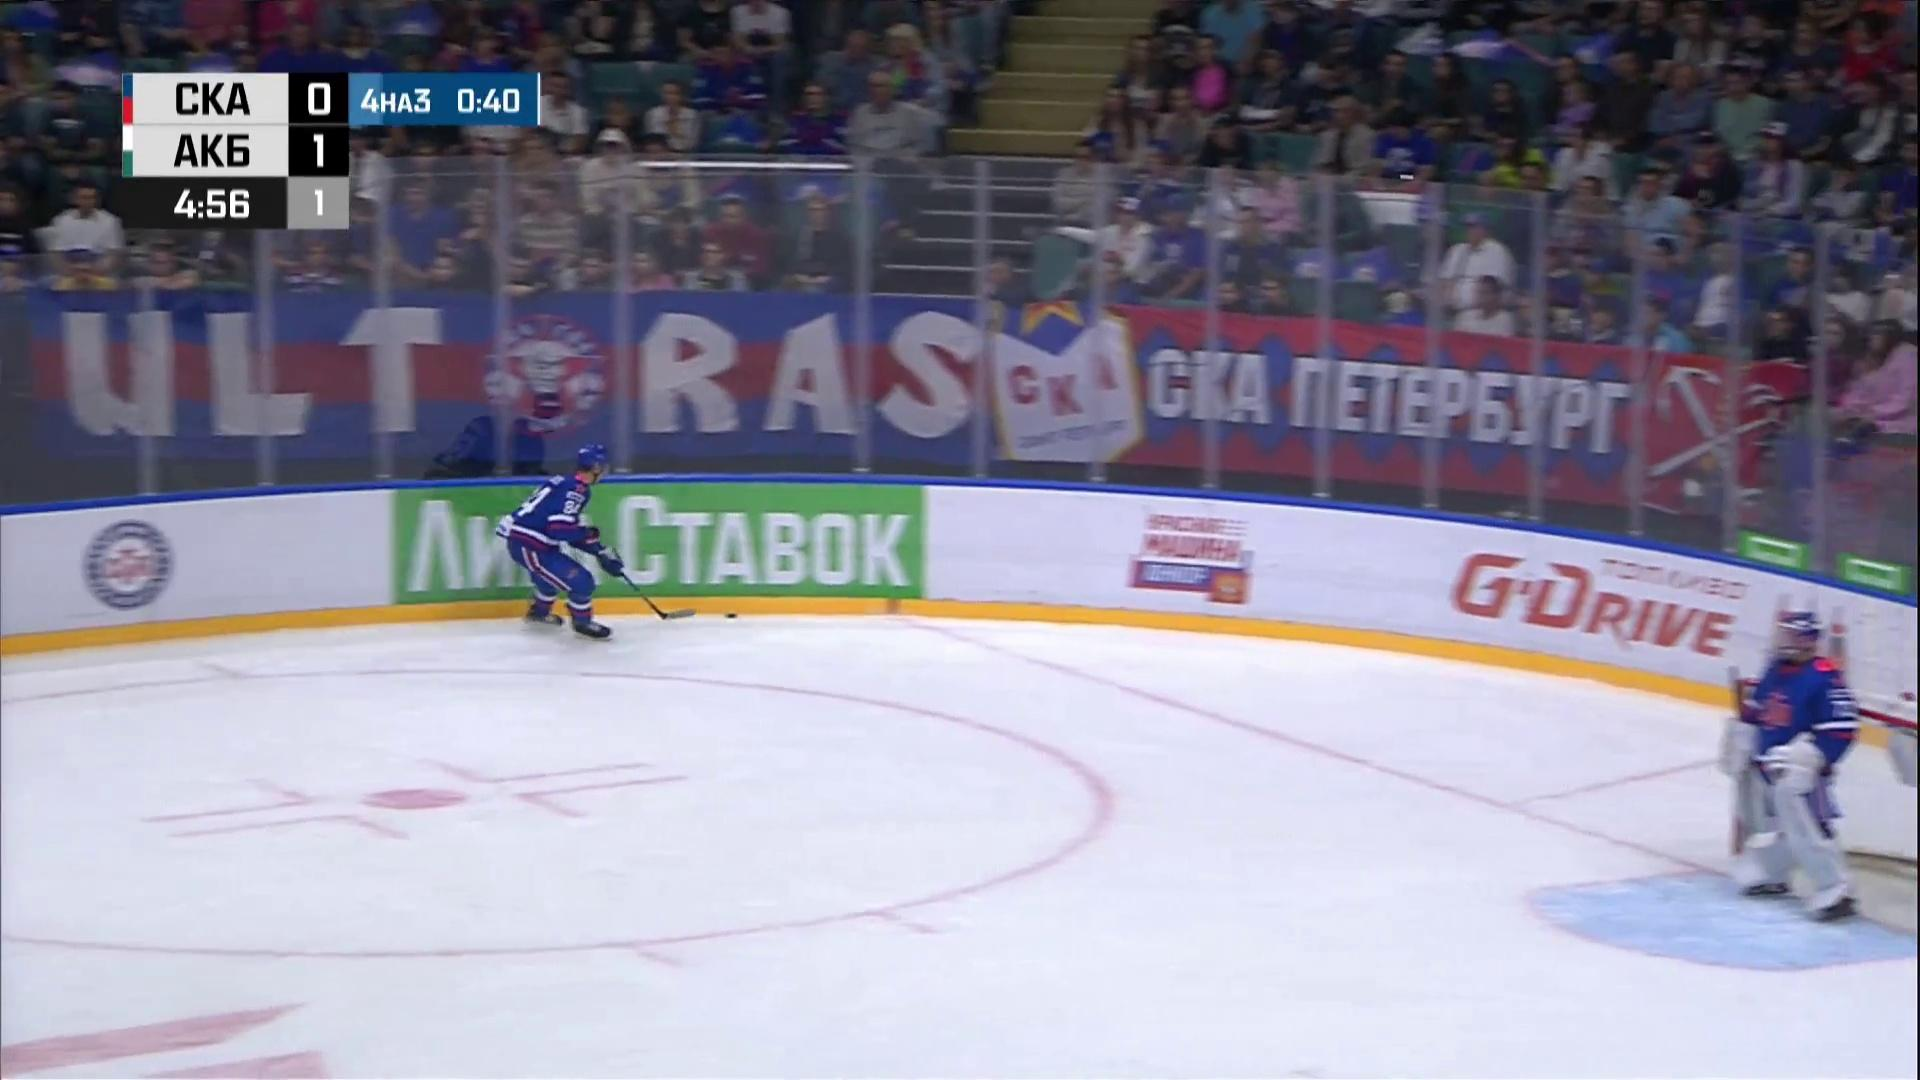ball: (725, 612, 738, 618)
